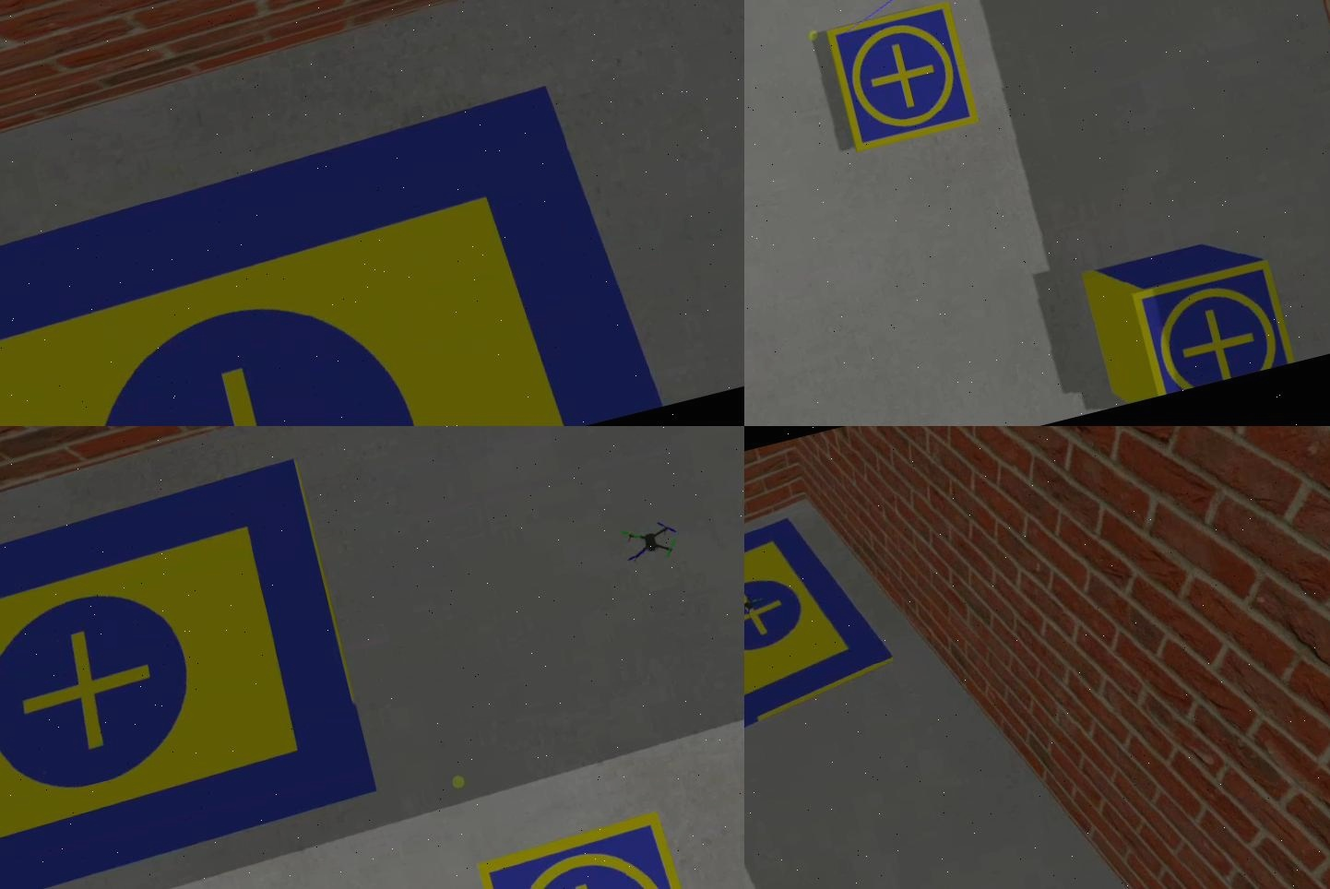large_base: (1, 74, 666, 426), (1, 457, 380, 889), (745, 499, 906, 751)
small_base: (1128, 258, 1299, 402), (827, 3, 983, 154), (475, 809, 721, 889)
